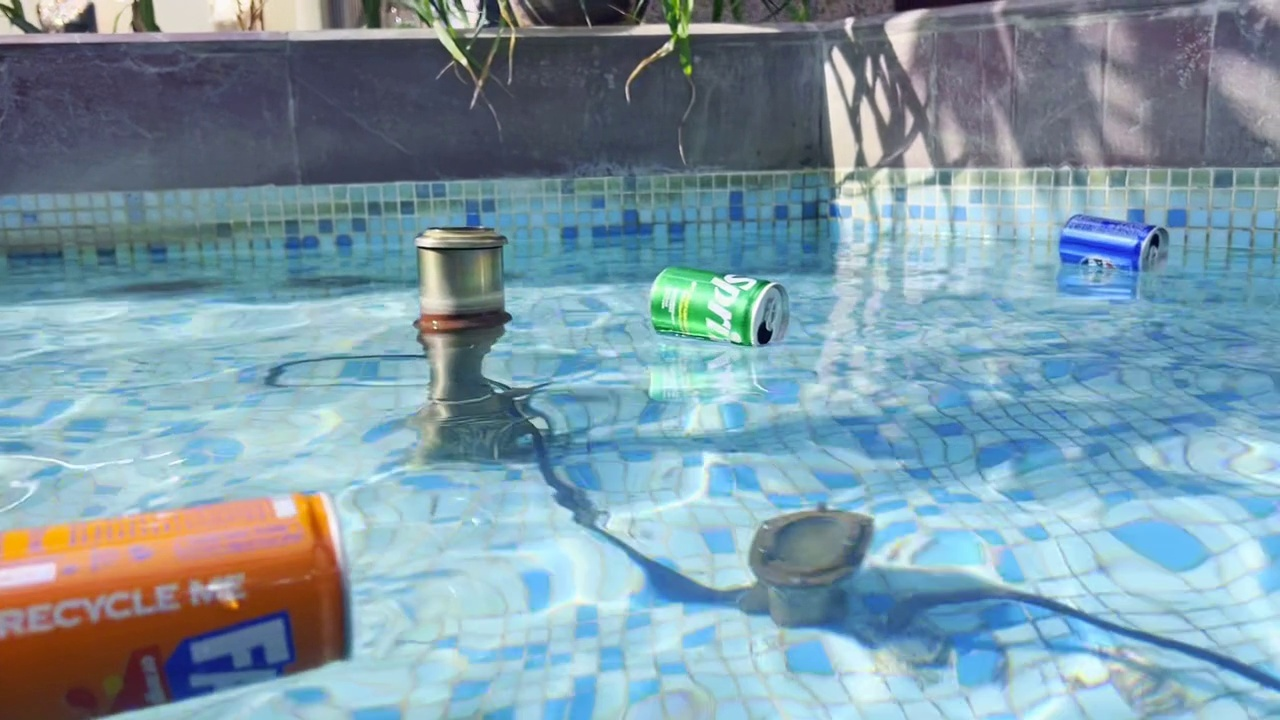debris: (0, 464, 360, 720), (633, 255, 795, 360), (1053, 201, 1173, 279)
